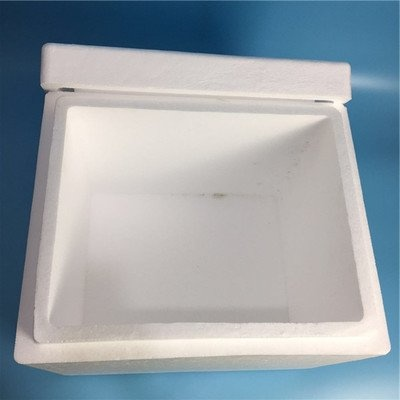5/可回收垃圾/泡沫: (12, 41, 391, 375)
